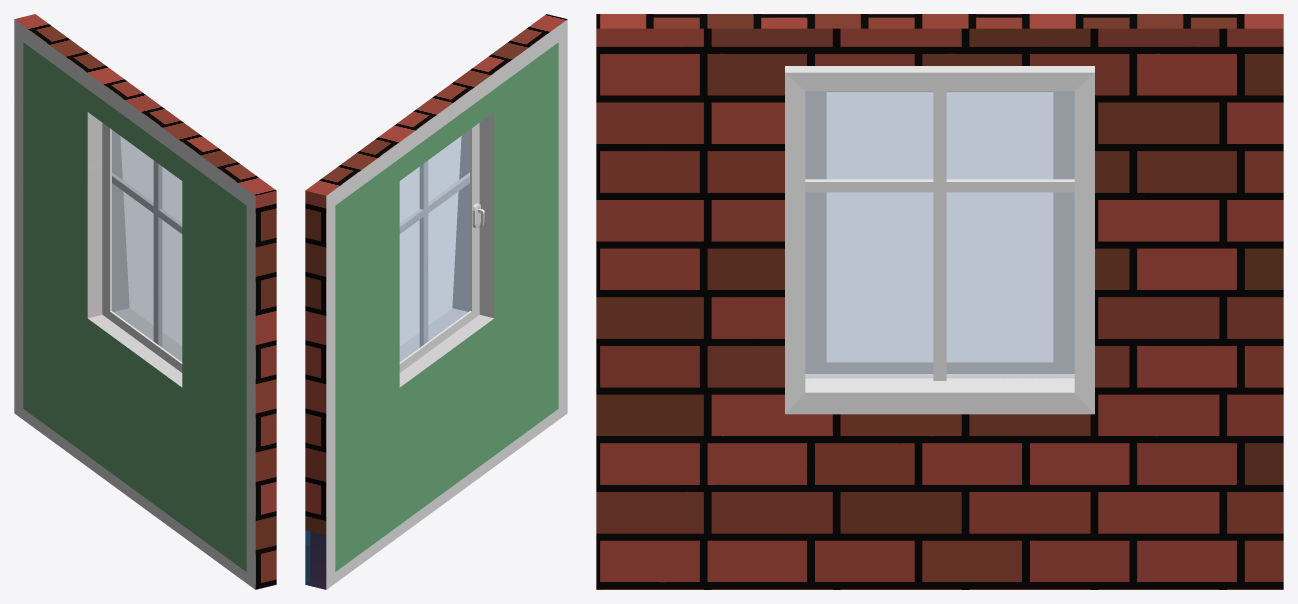
The model's file is Window top B.fbx.
The picture shows the model from 3 angles, left to right: view 1: azimuth 30°, elevation 25°; view 2: azimuth 150°, elevation 25°; view 3: azimuth 270°, elevation 25°; orthographic projection. The views are drawn at different scales.
Parts seen in each view (by area): view 1: Window-Top B; view 2: Window-Top B; view 3: Window-Top B.
Part boxes in pixels (box(x1,y1,x2,y2)): Window-Top B: box(14, 14, 276, 589); Window-Top B: box(305, 14, 567, 589); Window-Top B: box(596, 14, 1283, 589).
Size of the model in its own units: 80.47 by 721 by 800.
